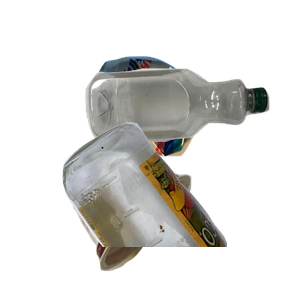glass: (60, 120, 300, 300)
metal: (84, 53, 279, 202)
plastic: (83, 66, 300, 201)
trash: (70, 149, 254, 300)
